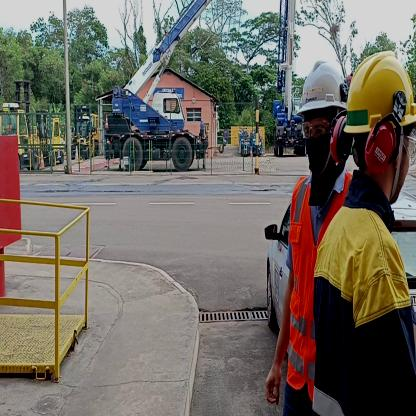Balaclava: (299, 112, 345, 185)
Capacete: (345, 50, 416, 124), (304, 57, 347, 112)
colete: (285, 176, 314, 388)
